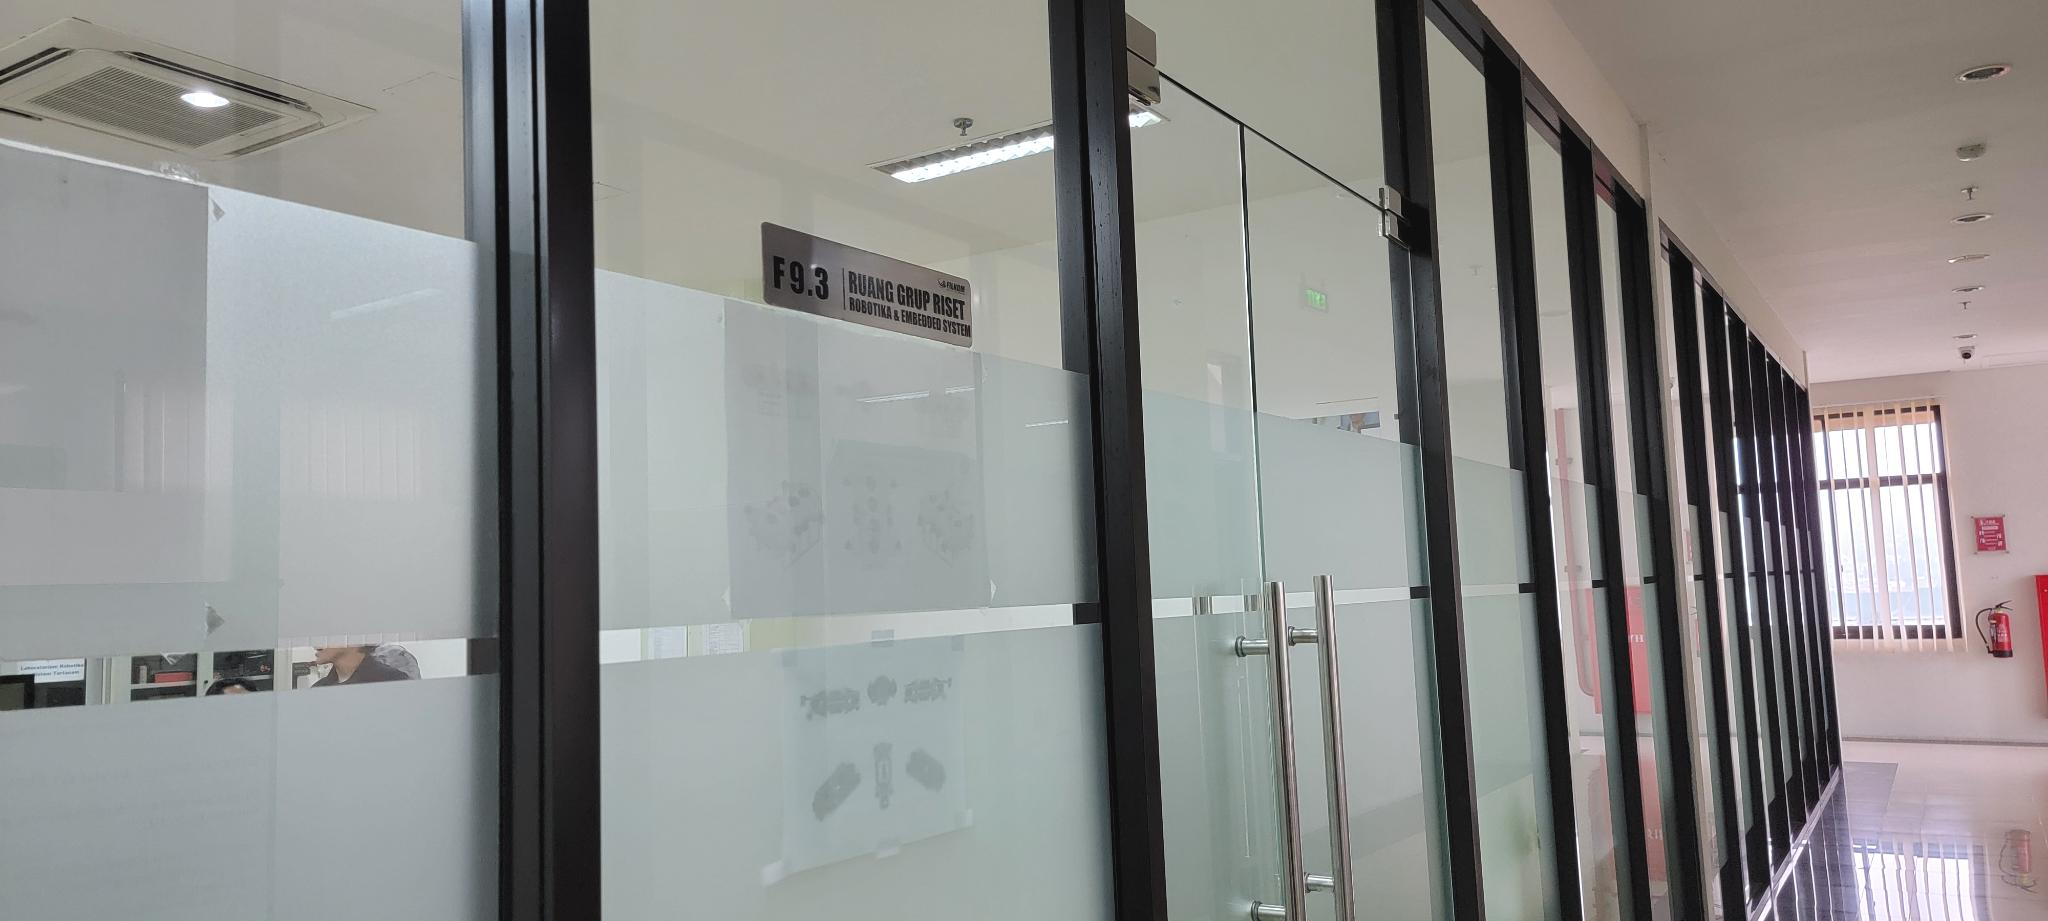plate: (761, 218, 972, 350)
